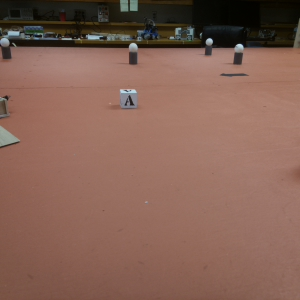blockA: (117, 83, 142, 111)
obstacle: (201, 36, 215, 61), (1, 40, 16, 60), (128, 42, 140, 66), (233, 43, 244, 65)
side: (1, 89, 8, 119)
slope: (1, 126, 18, 149)
start: (218, 69, 253, 85)
